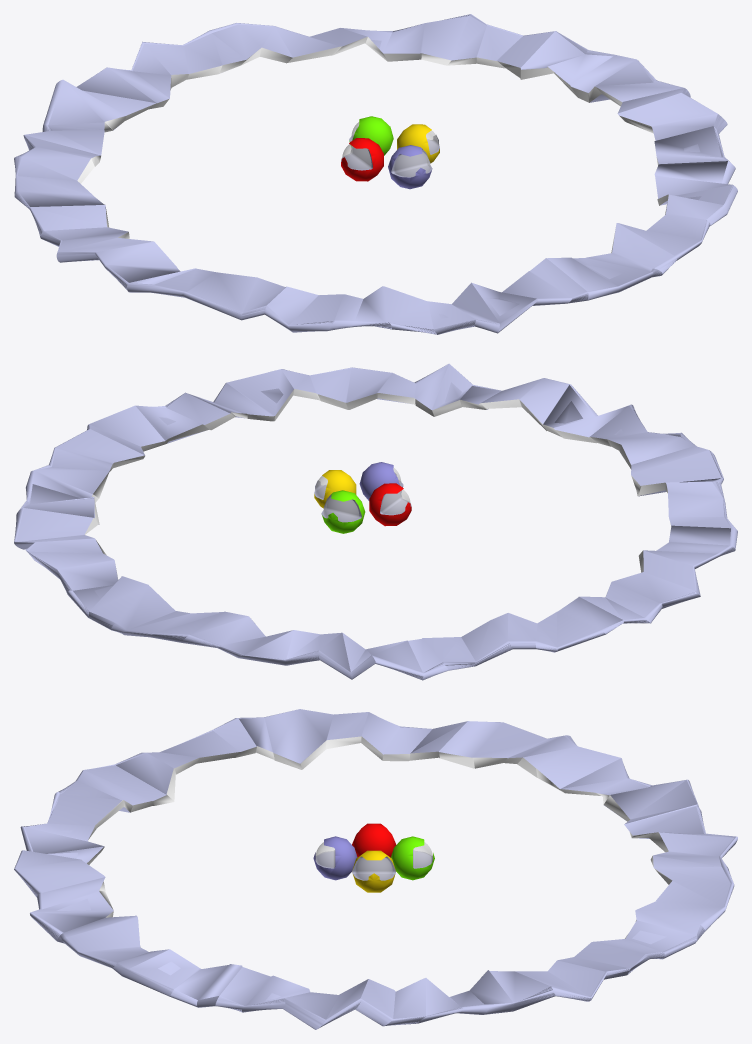
The model's file is CrystalRing.fbx.
3 views of the same model, one above another, from view 1: azimuth 30°, elevation 25°; view 2: azimuth 150°, elevation 25°; view 3: azimuth 270°, elevation 25° (orthographic).
Visible parts, largest first — view 1: Main level grass, Cylinder 10, Polyhedron.002, Polyhedron.001, Polyhedron.003, Box 21.003, Polyhedron, Sphere 7.003, Box 21.002, Sphere 7.002; view 2: Main level grass, Cylinder 10, Polyhedron.002, Polyhedron.003, Polyhedron.001, Box 21.001, Polyhedron, Sphere 7.001, Box 21.002, Sphere 7.002; view 3: Main level grass, Cylinder 10, Polyhedron.003, Polyhedron.001, Polyhedron.002, Box 21, Polyhedron, Sphere 7.
Part boxes in pixels (x1,y1,x2,y2): Main level grass: (14,14,737,334); Cylinder 10: (77,36,668,252); Polyhedron.002: (341,138,383,181); Polyhedron.001: (349,116,393,155); Polyhedron.003: (388,145,431,189); Box 21.003: (391,149,432,177); Polyhedron: (397,124,439,163); Sphere 7.003: (394,152,430,176); Box 21.002: (341,146,372,170); Sphere 7.002: (342,144,371,168); Main level grass: (14,363,737,680); Cylinder 10: (85,389,667,595); Polyhedron.002: (369,483,411,526); Polyhedron.003: (359,462,403,500); Polyhedron.001: (322,490,365,533); Box 21.001: (321,494,361,522); Polyhedron: (314,470,356,508); Sphere 7.001: (323,497,358,521); Box 21.002: (380,491,411,515); Sphere 7.002: (381,489,410,513); Main level grass: (14,709,737,1029); Cylinder 10: (87,736,672,978); Polyhedron.003: (313,836,357,880); Polyhedron.001: (391,836,434,880); Polyhedron.002: (352,823,396,857); Box 21: (352,856,395,880); Polyhedron: (352,850,396,892); Sphere 7: (355,857,392,880).
Bounding box in the file's own units: 130 × 10.87 × 128.
